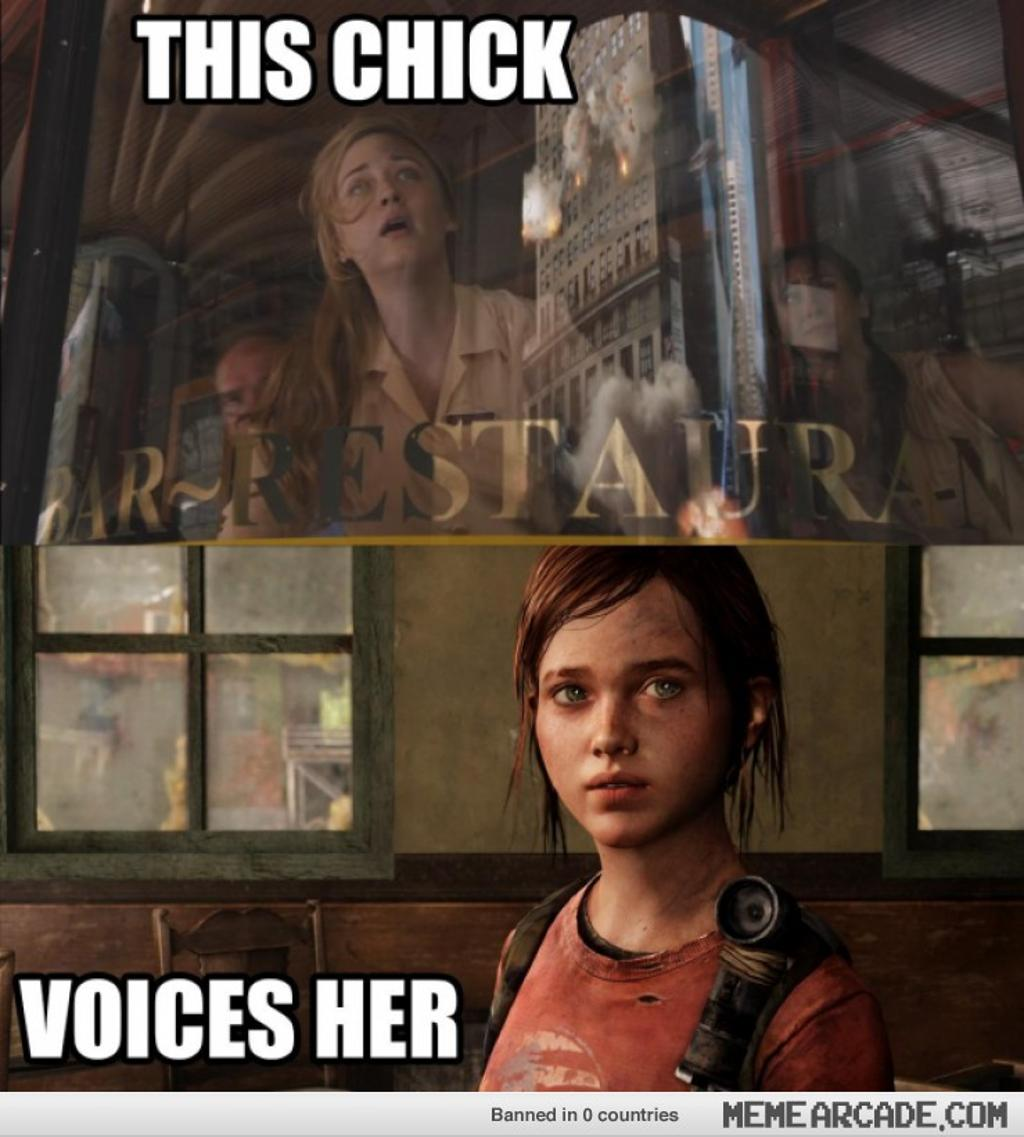face: (535, 584, 733, 842), (324, 138, 442, 267), (777, 262, 846, 346)
